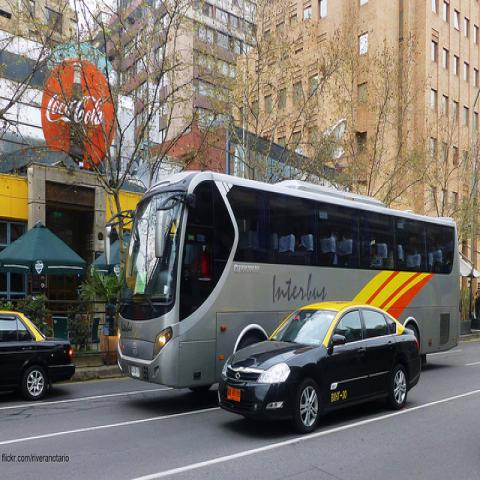bus: (106, 169, 460, 396)
car: (217, 297, 424, 428), (0, 310, 77, 400)
